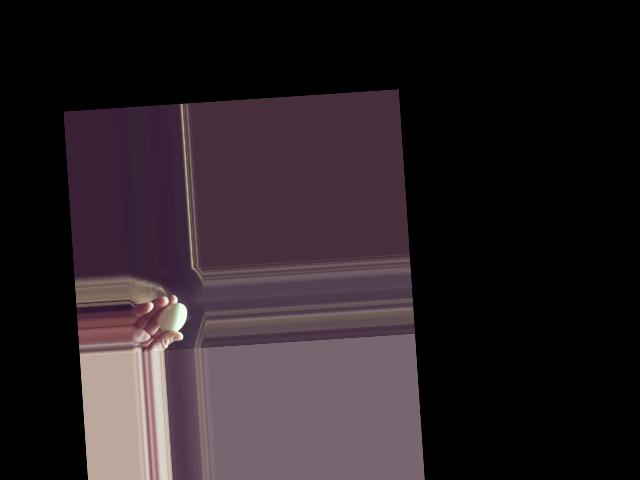egg: (156, 302, 188, 332)
